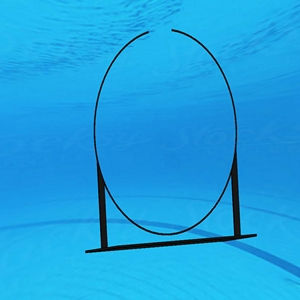circle: (84, 22, 266, 250)
